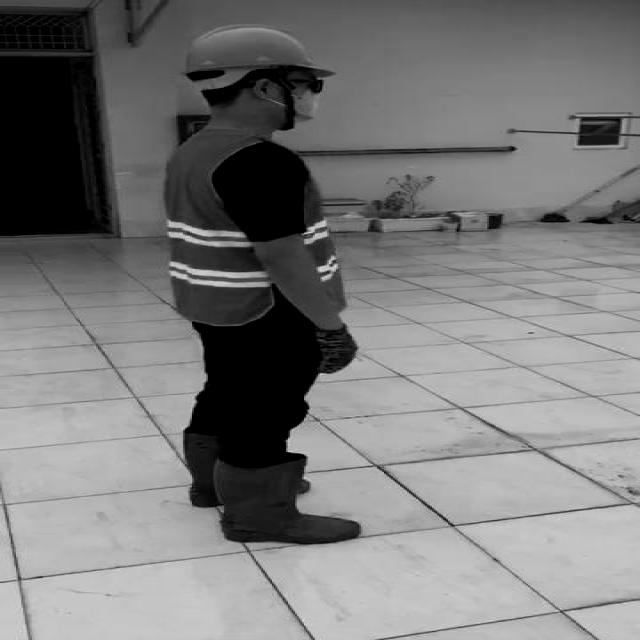boots: (214, 454, 358, 543)
face_mask: (270, 70, 332, 120)
hand_glove: (309, 327, 363, 375)
head_helmet: (180, 22, 340, 80)
person: (149, 24, 361, 547)
vest: (160, 128, 354, 330)
